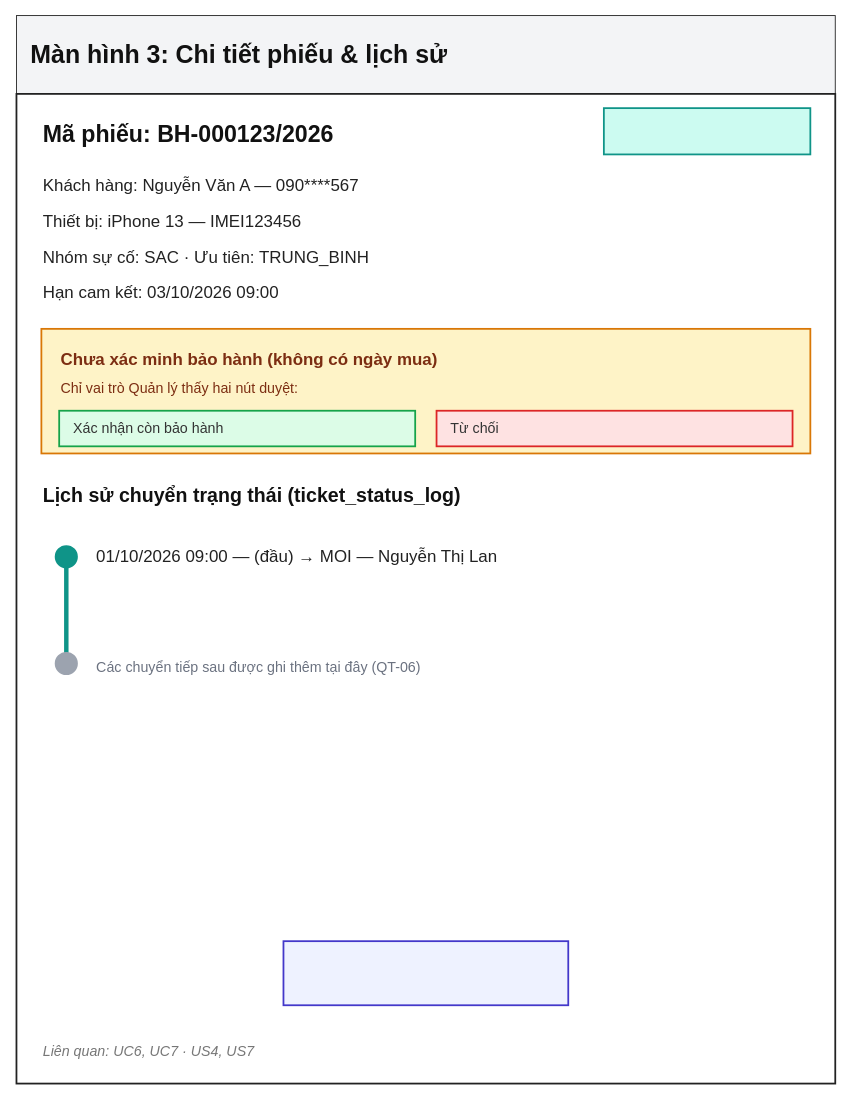
This 851x1100 diagram has some shape labels left out. The centre of each missing label's shape, as x and y in pixels:
"MOI" belongs at (x=707, y=131).
"← Về danh sách" belongs at (x=425, y=973).
